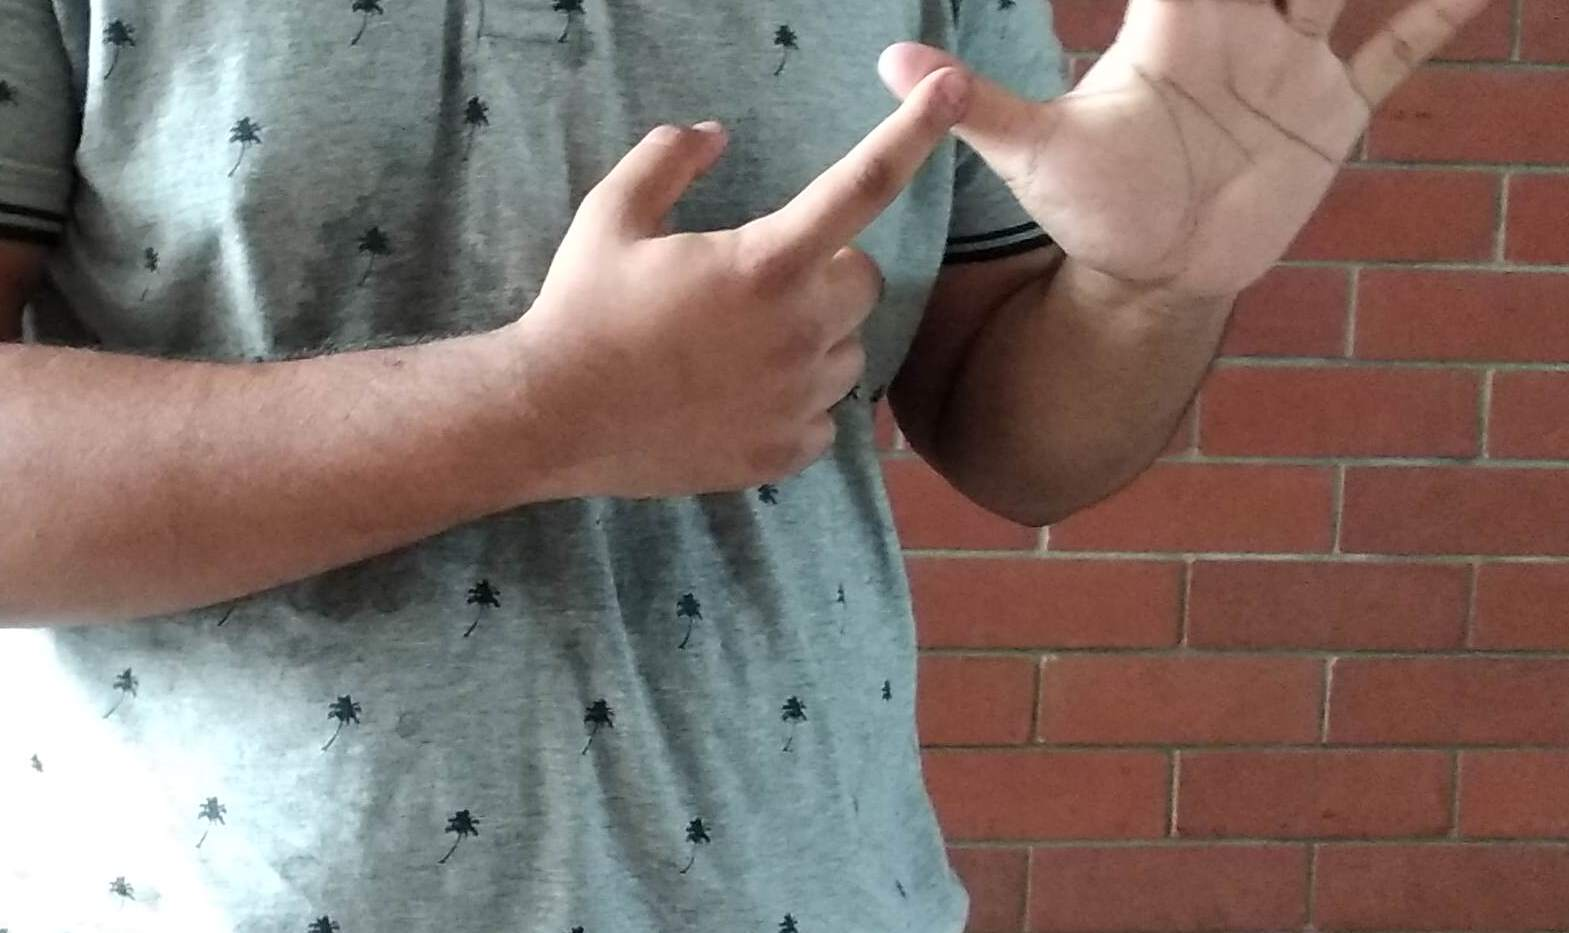a: (541, 2, 1483, 444)
